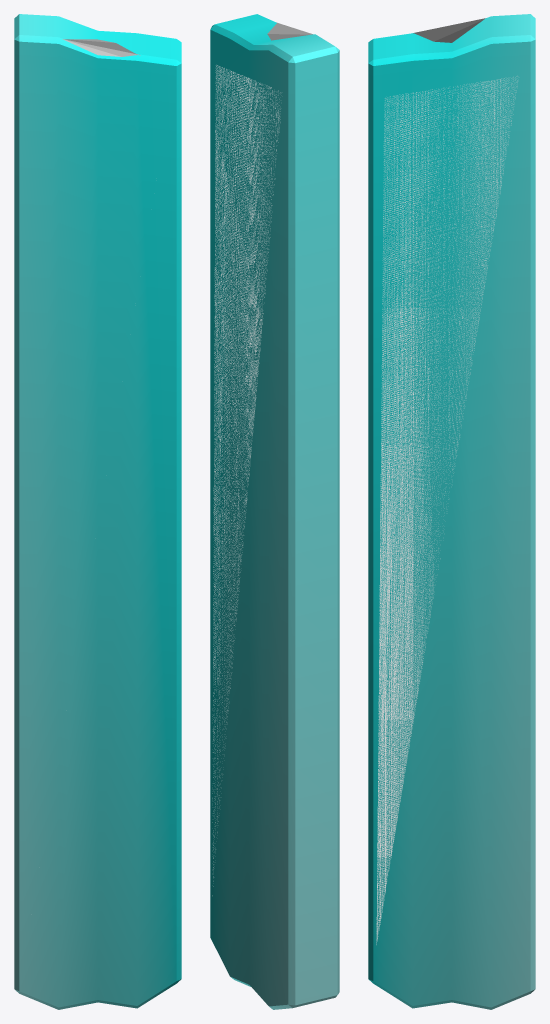
File: SM_WoodenPlanks_03_A.fbx
The picture shows the model from 3 angles, left to right: view 1: azimuth 90°, elevation 25°; view 2: azimuth 210°, elevation 25°; view 3: azimuth 270°, elevation 25°; orthographic projection.
Visible parts, largest first — view 1: SM_WoodenPlanks_03_LOD0, SM_WoodenPlanks_03_ConvexHulls; view 2: SM_WoodenPlanks_03_LOD0, SM_WoodenPlanks_03_ConvexHulls; view 3: SM_WoodenPlanks_03_LOD0, SM_WoodenPlanks_03_ConvexHulls.
Part boxes in pixels (x1,y1,x2,y2): SM_WoodenPlanks_03_LOD0: (14,14,181,1009); SM_WoodenPlanks_03_ConvexHulls: (62,39,140,56); SM_WoodenPlanks_03_LOD0: (210,14,339,1009); SM_WoodenPlanks_03_ConvexHulls: (212,22,312,895); SM_WoodenPlanks_03_LOD0: (368,14,535,1009); SM_WoodenPlanks_03_ConvexHulls: (376,18,517,944).
Size of the model in its own units: 10.44 by 29.31 by 188.
